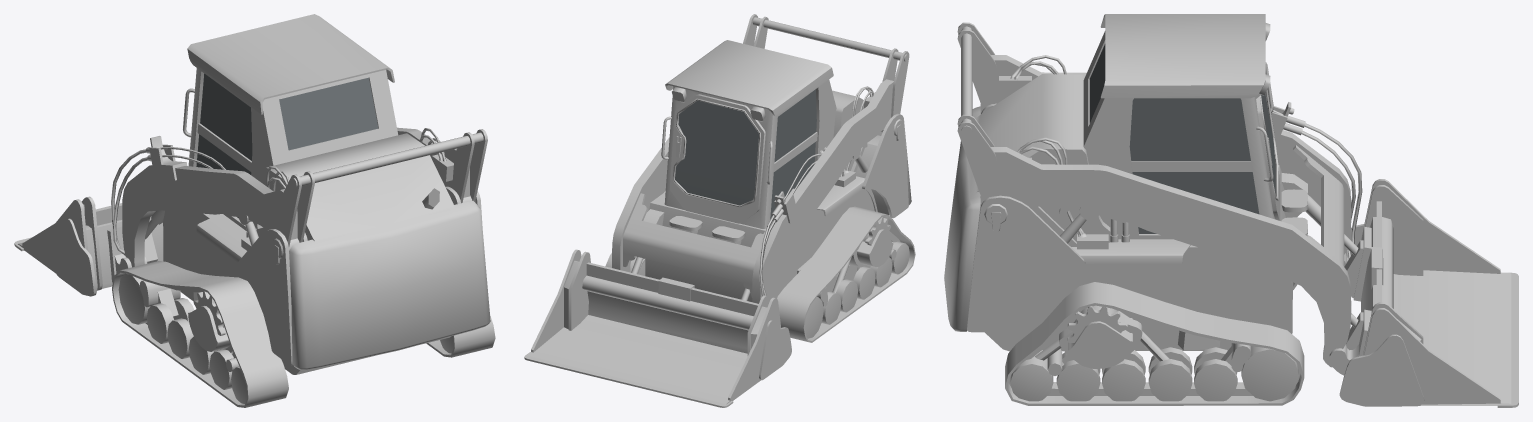
File: caterpillar247B.FBX
3 views of the same model, side by side, from view 1: azimuth 30°, elevation 25°; view 2: azimuth 150°, elevation 25°; view 3: azimuth 270°, elevation 25° (orthographic). The views are drawn at different scales.
Visible parts, largest first — view 1: caterpillar247B_body, caterpillar247B_chains, caterpillar247B_windows; view 2: caterpillar247B_body, caterpillar247B_windows, caterpillar247B_chains; view 3: caterpillar247B_body, caterpillar247B_windows, caterpillar247B_chains.
Part boxes in pixels (box(x1,y1,x2,y2)): caterpillar247B_body: box(14, 14, 490, 403); caterpillar247B_chains: box(112, 261, 495, 407); caterpillar247B_windows: box(196, 73, 378, 217); caterpillar247B_body: box(524, 14, 911, 407); caterpillar247B_windows: box(675, 89, 816, 219); caterpillar247B_chains: box(605, 191, 915, 342); caterpillar247B_body: box(944, 14, 1518, 407); caterpillar247B_windows: box(1089, 44, 1275, 233); caterpillar247B_chains: box(1005, 282, 1304, 405).
Size of the model in its own units: 140 by 144 by 255.
